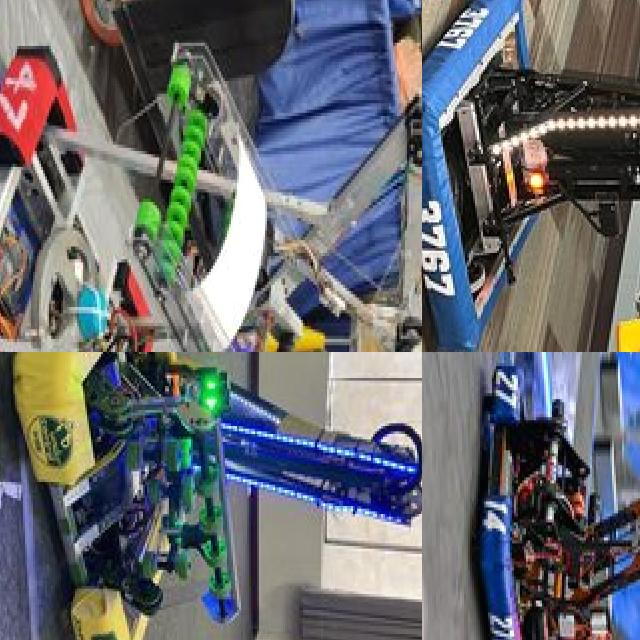FRC-Robots: (0, 44, 422, 352), (3, 352, 422, 640), (422, 0, 640, 352), (456, 352, 640, 640)
